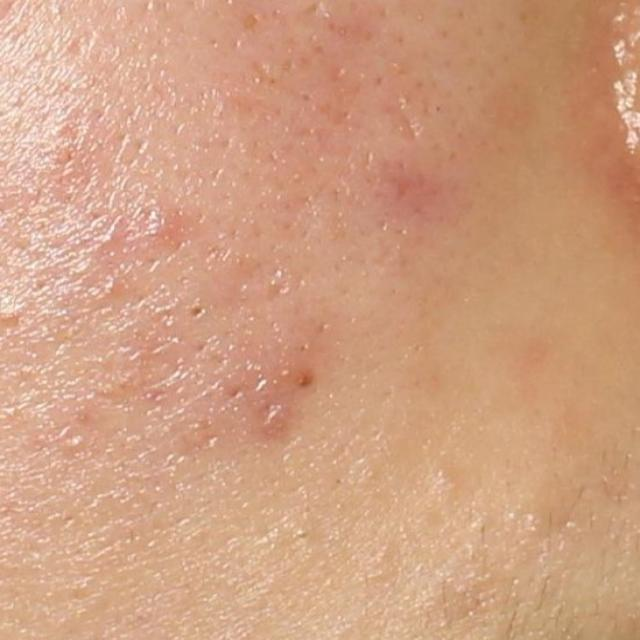blackhead: (188, 300, 216, 328), (290, 370, 322, 393)
